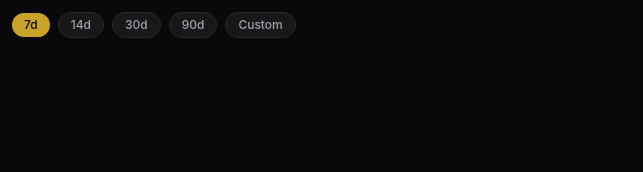
Test: DateRangeSelector › custom mode › clicking Custom shows date inputs and Apply button
Step 1. Click the button "Custom" → (261, 25), box x1=225 y1=12 x2=296 y2=38
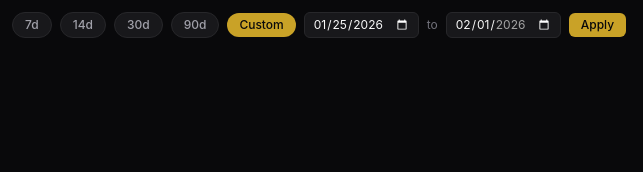
Expected: the button "Apply" is shown, x1=569 y1=13 x2=626 y2=37
